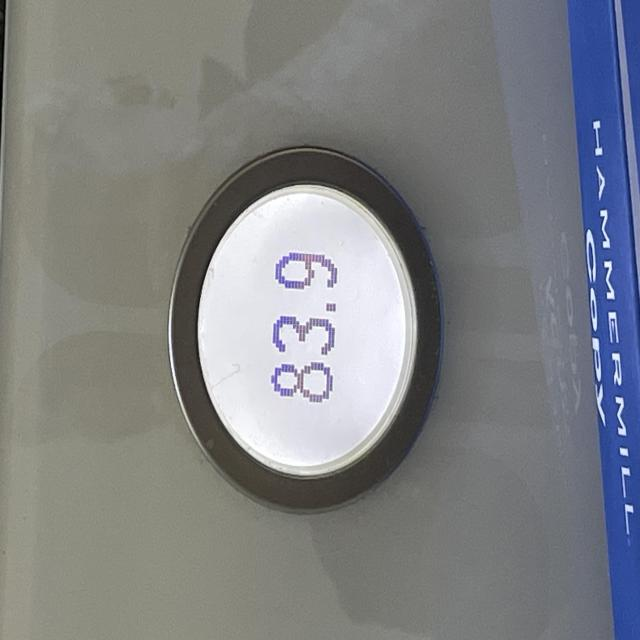ws: (167, 147, 443, 518)
